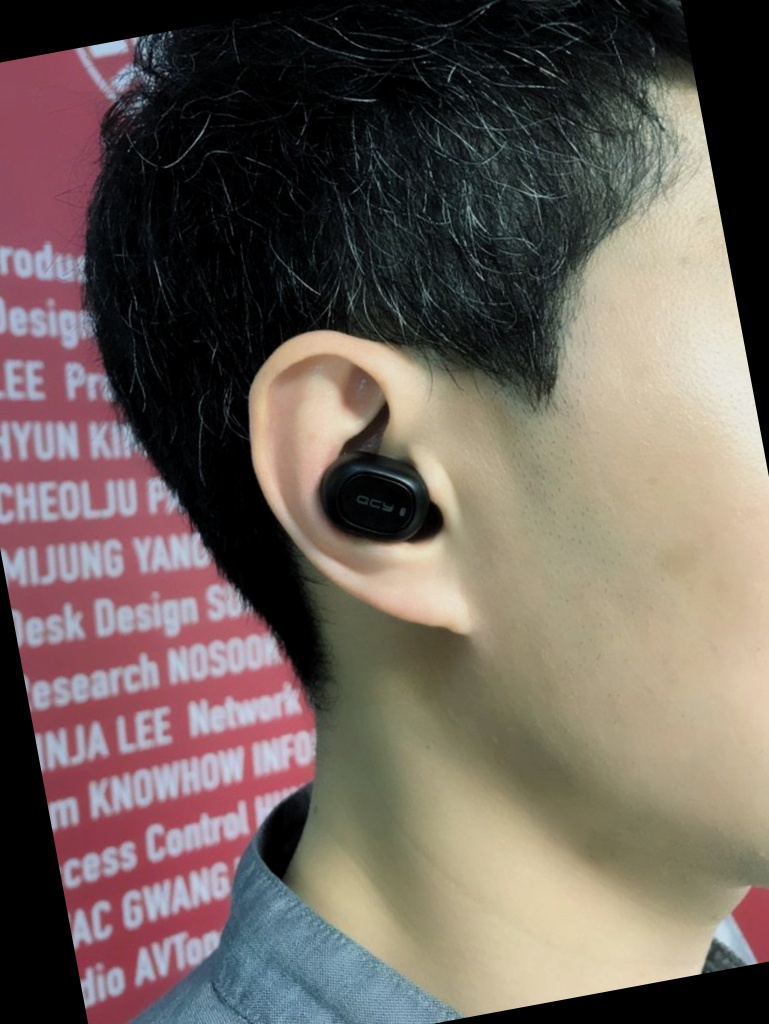earphone: (229, 308, 495, 670)
